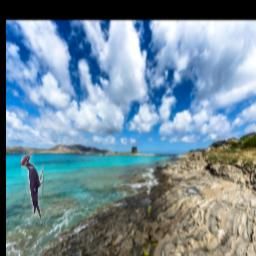Woodpecker: (20, 151, 43, 218)
